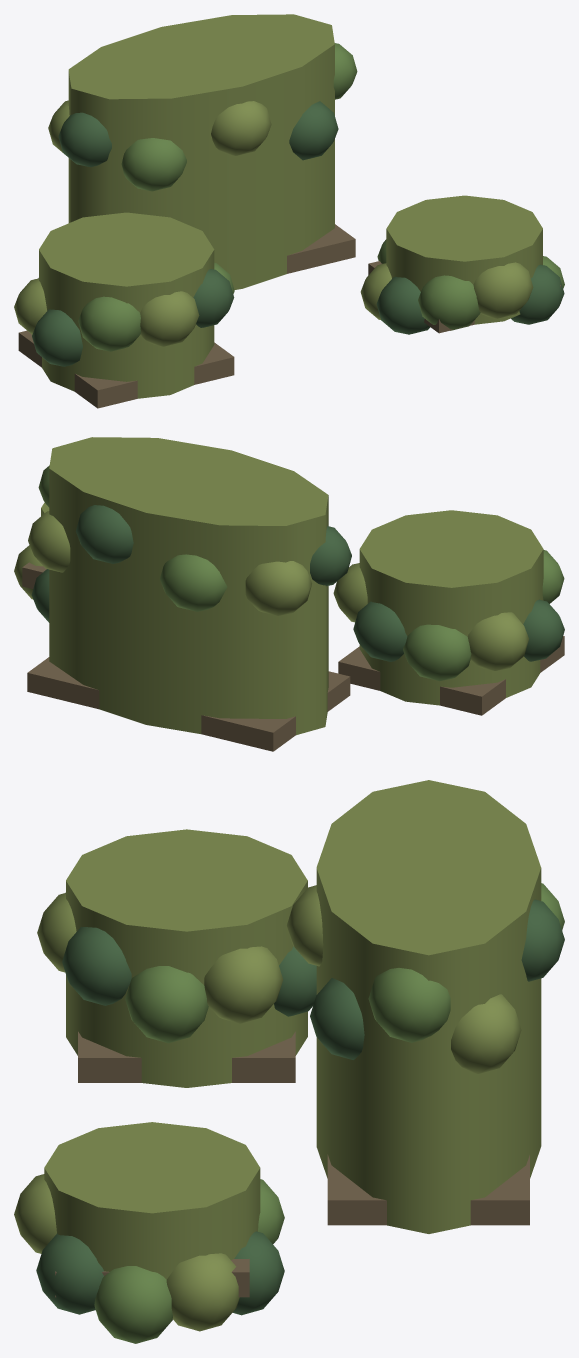
3 renders of one model, top to bottom at view 1: azimuth 30°, elevation 25°; view 2: azimuth 150°, elevation 25°; view 3: azimuth 270°, elevation 25°, orthographic. The views are drawn at different scales.
Visible parts, largest first — view 1: climb-hedge-5-0, 생울타리 06, climb-hedge-5-1, climb-hedge-5-2; view 2: climb-hedge-5-0, 생울타리 06, climb-hedge-5-1; view 3: climb-hedge-5-0, 생울타리 06, climb-hedge-5-1, climb-hedge-5-2.
Boxes of the visible parts, x1,y1,x2,y2 form: climb-hedge-5-0: (68,14,334,289); 생울타리 06: (14,43,564,408); climb-hedge-5-1: (39,212,214,398); climb-hedge-5-2: (386,195,542,324); climb-hedge-5-0: (49,437,328,735); 생울타리 06: (14,465,564,751); climb-hedge-5-1: (359,510,543,705); climb-hedge-5-0: (316,780,541,1233); 생울타리 06: (14,883,564,1343); climb-hedge-5-1: (66,829,307,1087); climb-hedge-5-2: (44,1122,260,1279).
Size of the model in its own units: 4.73 by 2.05 by 3.19.
